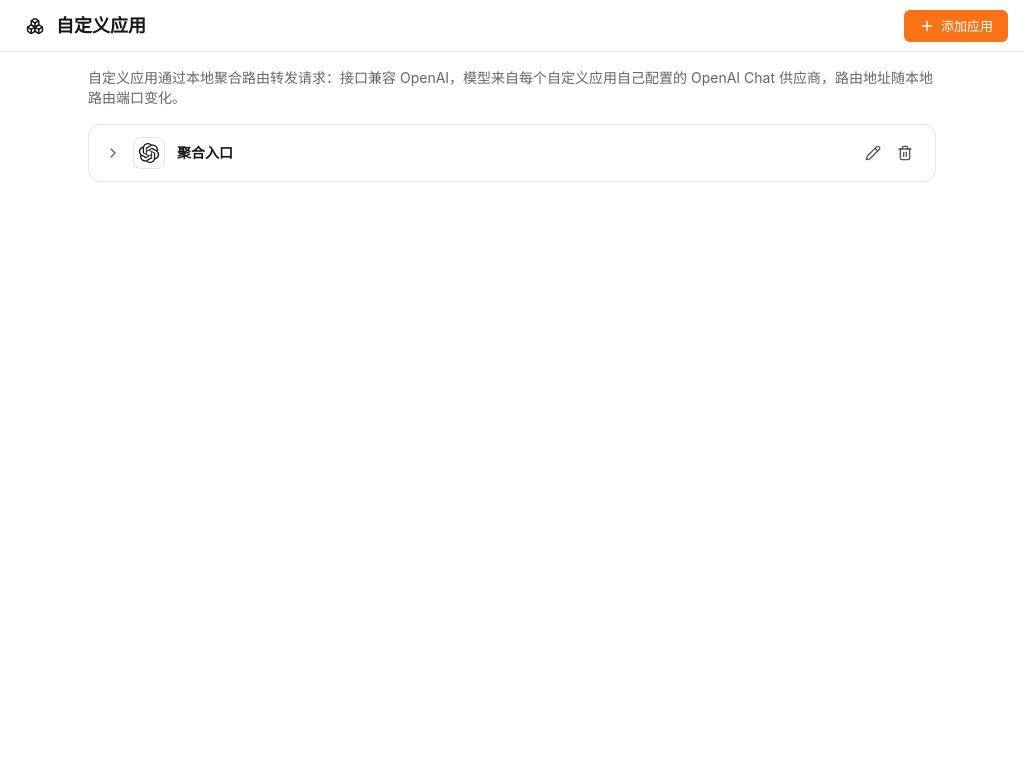
Test: CustomAppsPage 新建与编辑 › 编辑：预填名称，保存调用 updateCustomApp
Later steps or results of the test are not shown.
Expected: the text "聚合入口" is shown, [177,143,233,163]
Click the button named "编辑" at (873, 153), box [859,139,887,167]
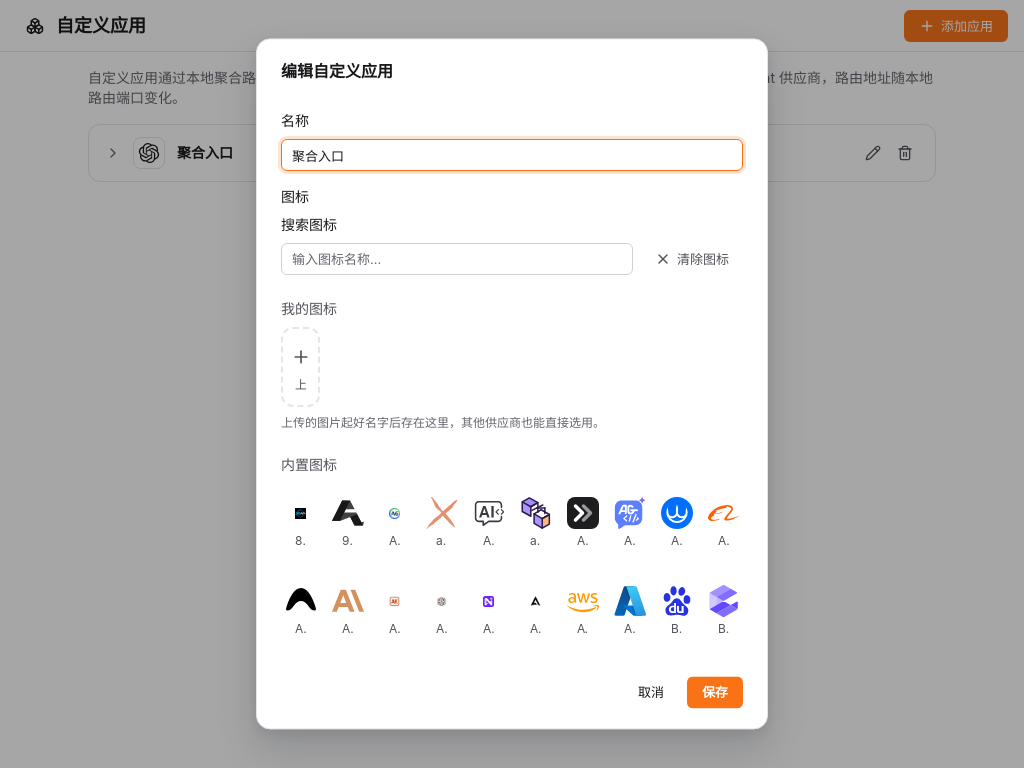
Result: the field labelled "名称" holds "聚合入口" at [281,139,743,171]
